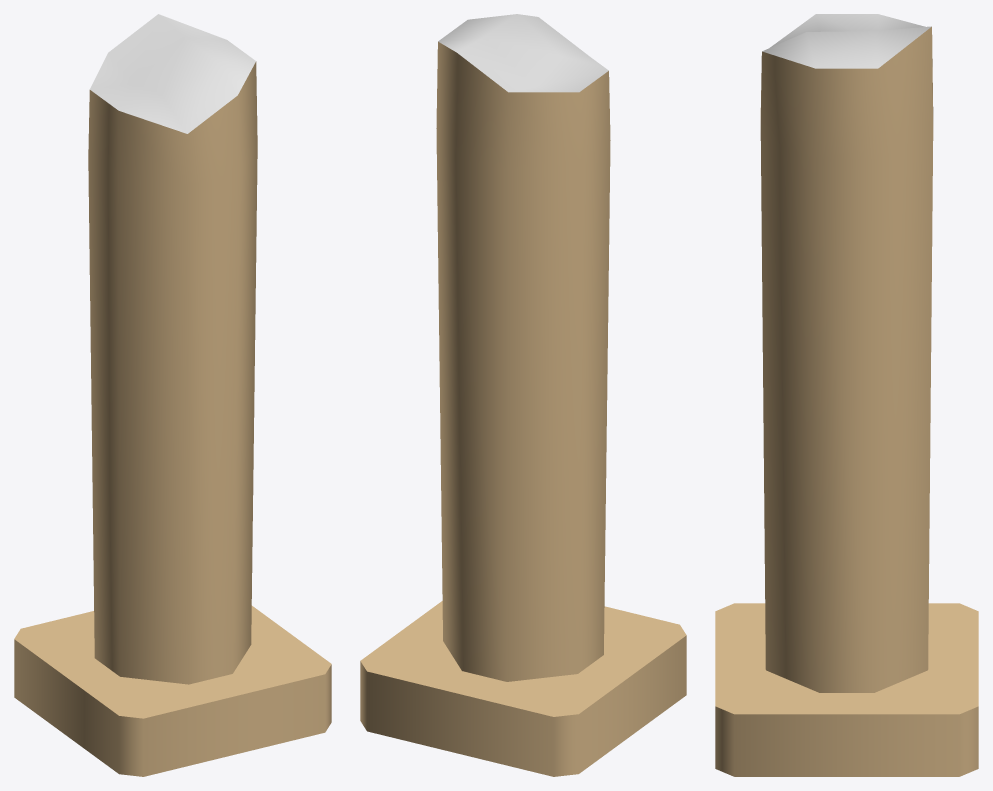
The model's file is PillarMiddle.gltf.
The picture shows the model from 3 angles, left to right: view 1: azimuth 30°, elevation 25°; view 2: azimuth 150°, elevation 25°; view 3: azimuth 270°, elevation 25°; orthographic projection. The views are drawn at different scales.
Visible parts, largest first — view 1: PillarMiddle; view 2: PillarMiddle; view 3: PillarMiddle.
Boxes of the visible parts, x1,y1,x2,y2 form: PillarMiddle: (14,14,331,776); PillarMiddle: (360,14,686,776); PillarMiddle: (715,14,978,776).
Bounding box in the file's own units: 0.5982 × 1.78 × 0.5982.
